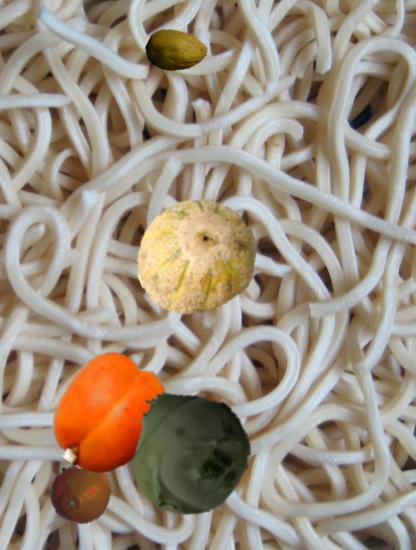Apricot: (48, 354, 170, 476)
Cantaloupe: (134, 194, 257, 317)
Kohlrabi: (121, 386, 251, 516)
Papaya: (146, 22, 206, 82)
Tangelo: (49, 461, 112, 524)
